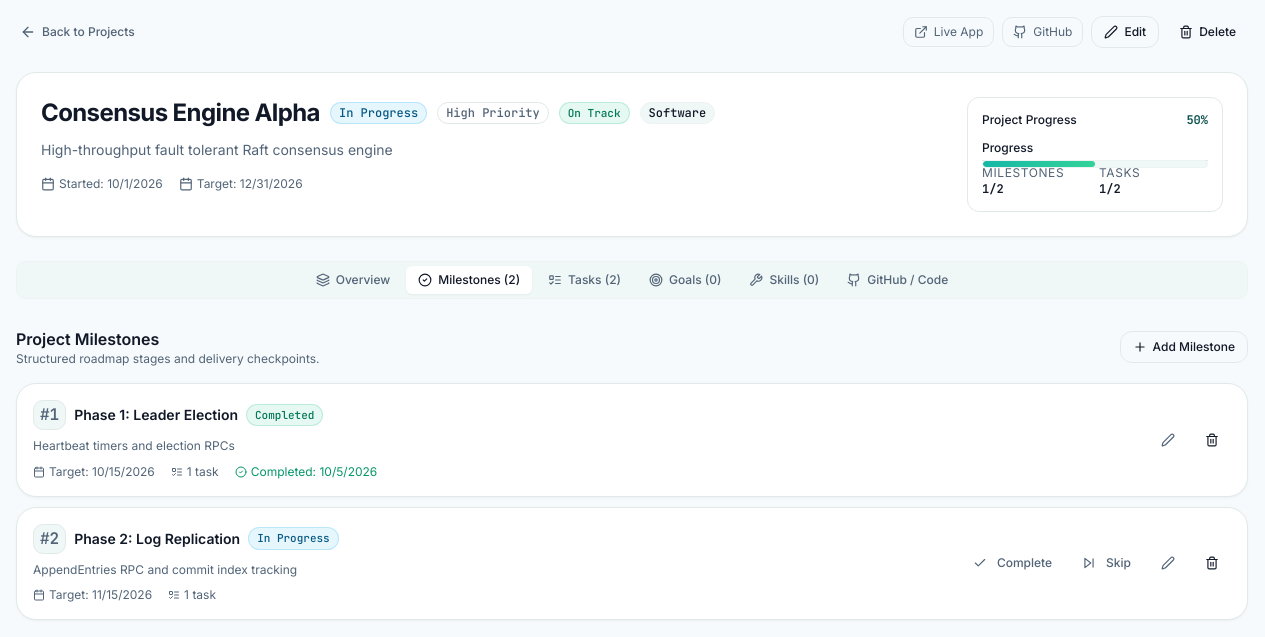
Phase 15E: Project Detail UX & Polished Workspace › preserves and switches tabs with URL synchronization
The width and height of the screenshot is (1265, 637).
Expected: the heading "Project Milestones" is shown, [16,329,159,349]
# Click Tasks tab
Click the tab "Tasks (2)" at (585, 280), box [536,266,633,294]
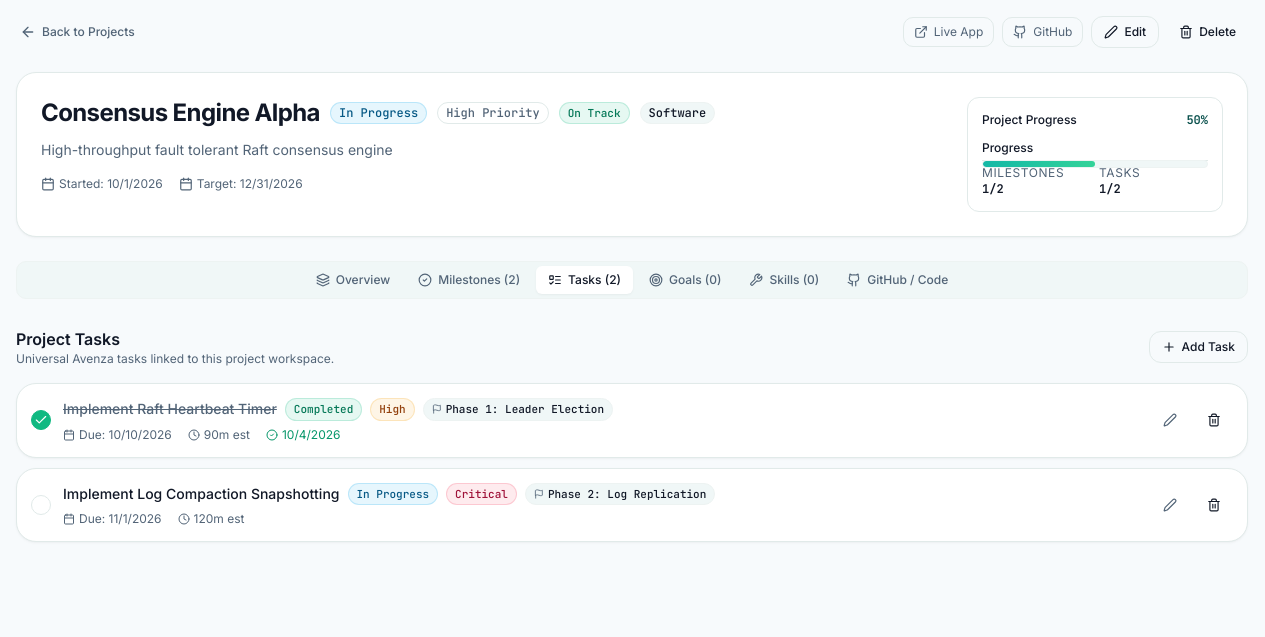
Expected: the heading "Project Tasks" is shown, [16,329,120,349]
